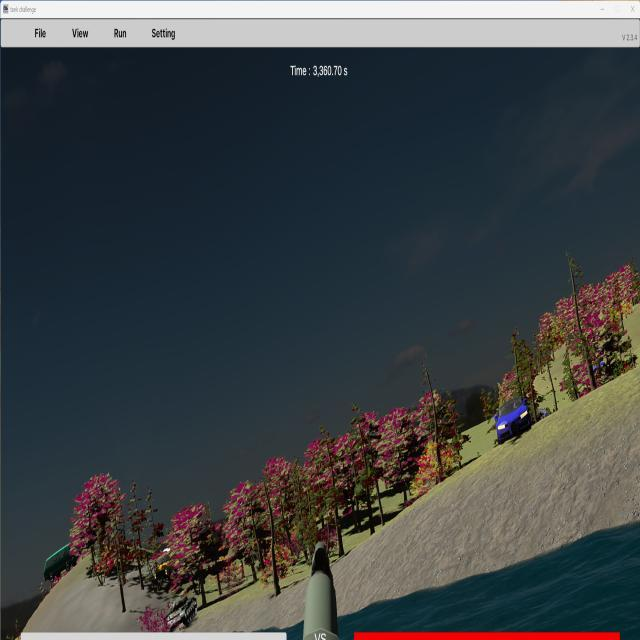Tank: (164, 593, 198, 633)
car: (496, 395, 531, 442), (45, 541, 79, 581)
